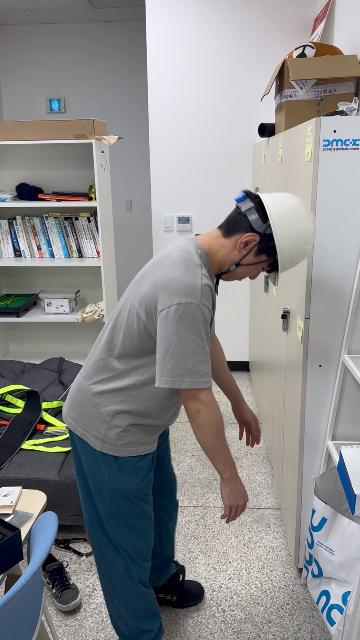helmet_worn: (256, 188, 316, 273)
shoe_not_worn: (39, 555, 83, 612)
shoe_worn: (151, 561, 204, 609)
vest_not_worn: (66, 234, 214, 462)
